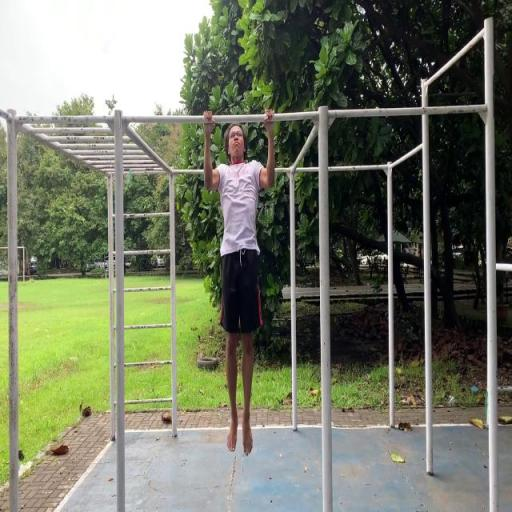Normal_BrenchPress: (202, 108, 276, 457)
